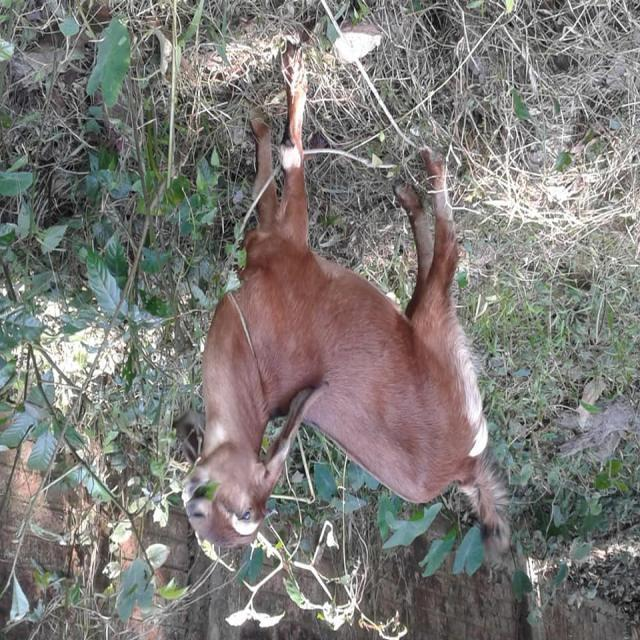Goat: (176, 41, 514, 563)
